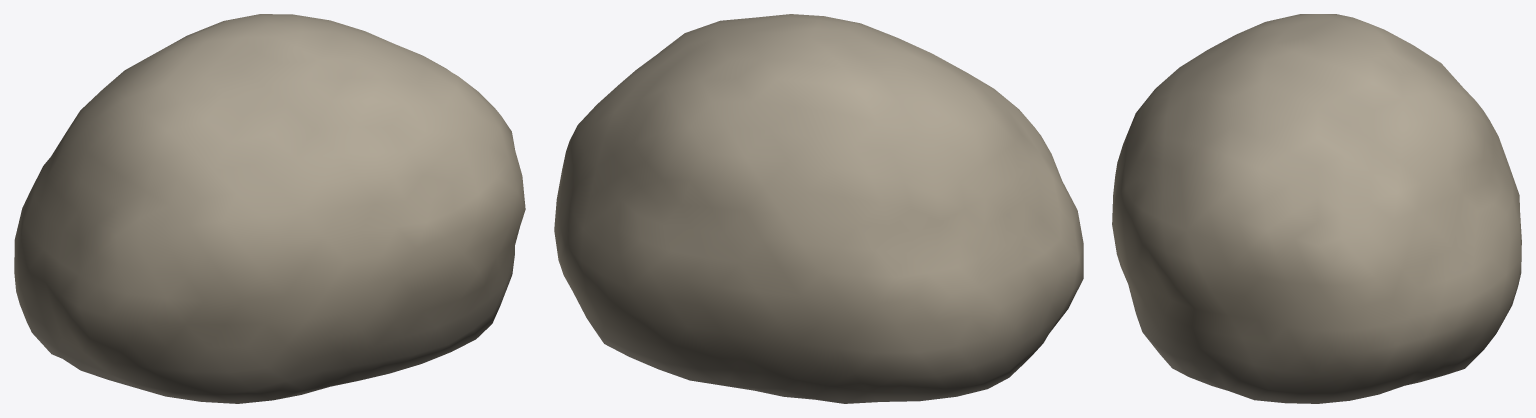
File: stone_b.glb
3 renders of one model, left to right at view 1: azimuth 30°, elevation 25°; view 2: azimuth 150°, elevation 25°; view 3: azimuth 270°, elevation 25°, orthographic. The views are drawn at different scales.
Visible parts, largest first — view 1: stone_b; view 2: stone_b; view 3: stone_b.
Boxes of the visible parts, x1,y1,x2,y2 form: stone_b: [14, 14, 525, 403]; stone_b: [554, 14, 1083, 403]; stone_b: [1112, 14, 1521, 403].
Bounding box in the file's own units: 0.2184 × 0.1302 × 0.1757.
